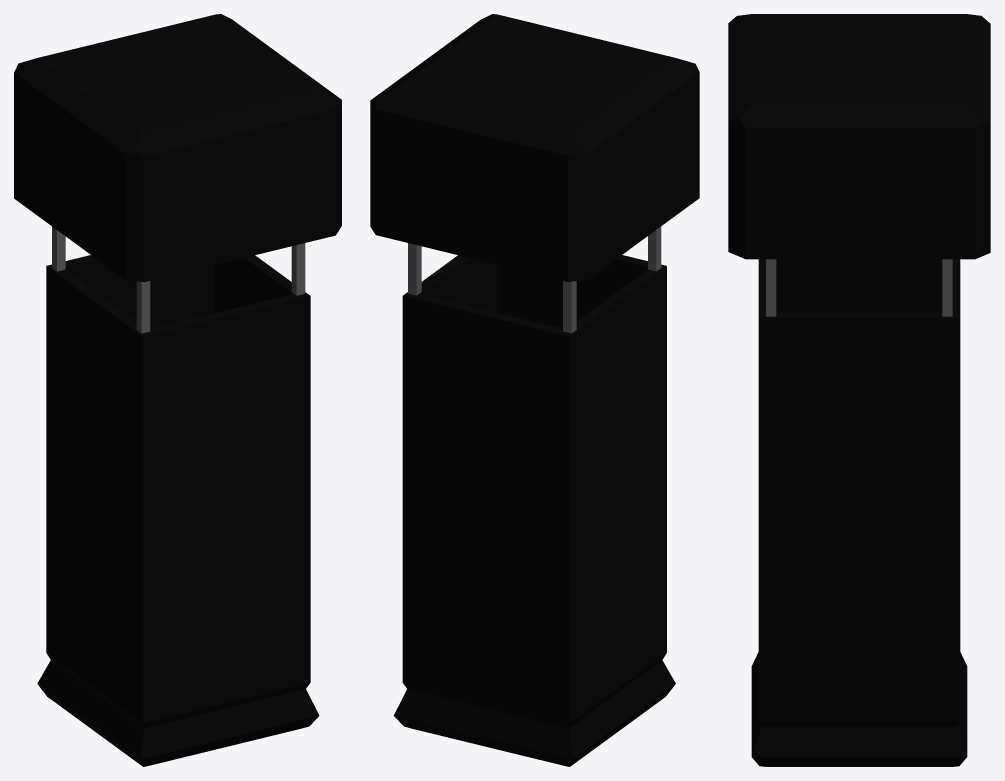
Rendered from GREEN RECYCLE BIN.001_Material.056.glb.
3 views of the same model, side by side, from view 1: azimuth 30°, elevation 25°; view 2: azimuth 150°, elevation 25°; view 3: azimuth 270°, elevation 25° (orthographic). The views are drawn at different scales.
Parts seen in each view (by area): view 1: GREEN RECYCLE BIN.001_Material.056_0; view 2: GREEN RECYCLE BIN.001_Material.056_0; view 3: GREEN RECYCLE BIN.001_Material.056_0.
Part boxes in pixels (<box>): GREEN RECYCLE BIN.001_Material.056_0: <box>14,14,341,766</box>; GREEN RECYCLE BIN.001_Material.056_0: <box>370,14,699,766</box>; GREEN RECYCLE BIN.001_Material.056_0: <box>728,14,990,766</box>.
Bounding box in the file's own units: 0.0958 × 0.2694 × 0.0958.
Materials: 1 (1 with a texture image).
